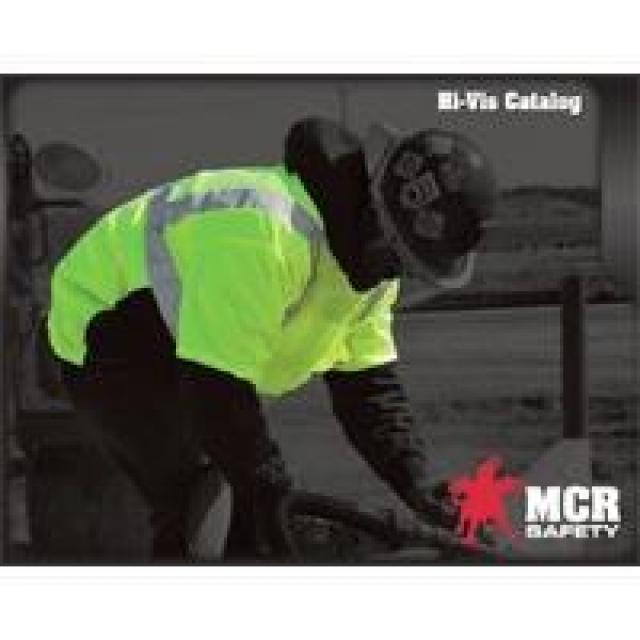no-helmet: (357, 115, 515, 298)
vest: (41, 160, 416, 395)
